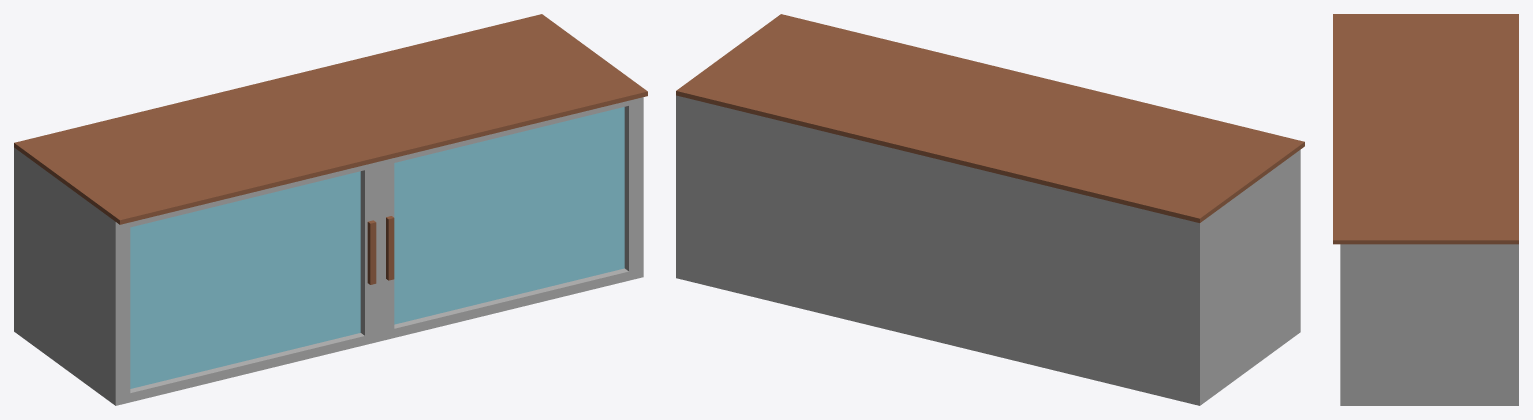
Rendered from Armario_Baixo.fbx.
3 views of the same model, side by side, from view 1: azimuth 30°, elevation 25°; view 2: azimuth 150°, elevation 25°; view 3: azimuth 270°, elevation 25° (orthographic). The views are drawn at different scales.
Parts seen in each view (by area): view 1: ArmarioBaixo; view 2: ArmarioBaixo; view 3: ArmarioBaixo.
Boxes of the visible parts, x1=… form: ArmarioBaixo: x1=14, y1=14, x2=647, y2=405; ArmarioBaixo: x1=676, y1=14, x2=1304, y2=405; ArmarioBaixo: x1=1333, y1=14, x2=1518, y2=405.
Bounding box in the file's own units: 360 × 123 × 125.
